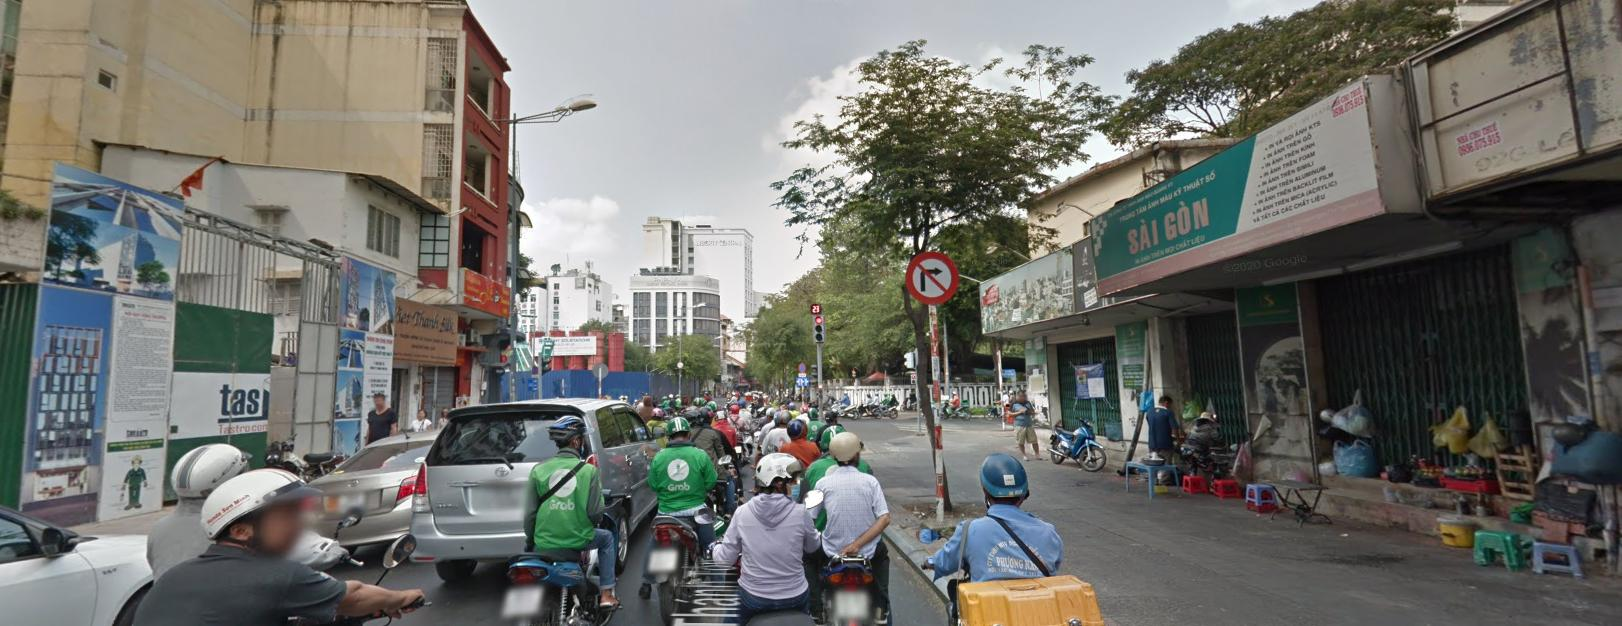Cam dung va do: (795, 360, 806, 371)
Cam re: (902, 246, 961, 304)
